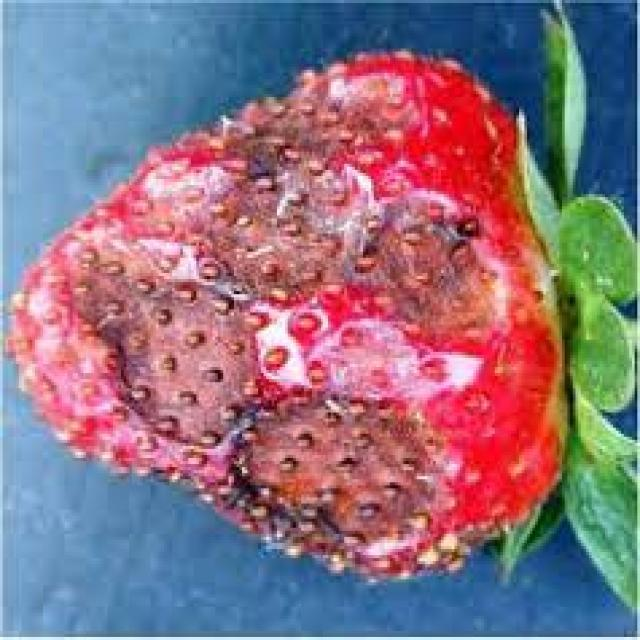Mancha negra Antracnosis: (27, 46, 574, 573)
